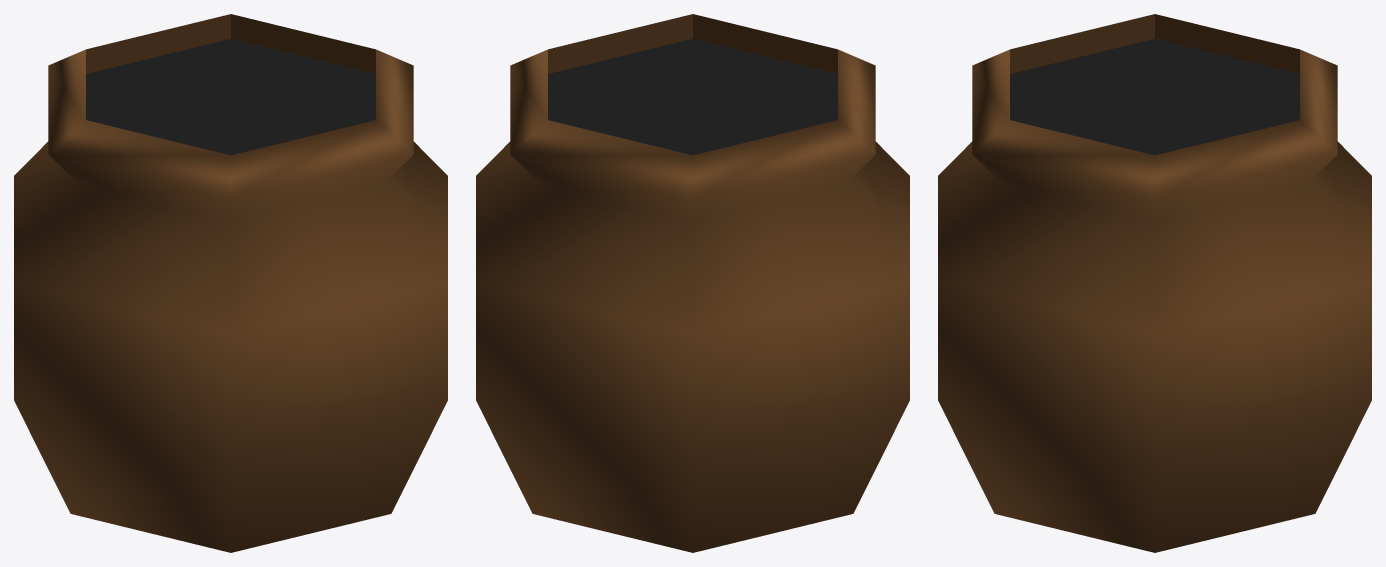
The model's file is Jar_2.fbx.
The picture shows the model from 3 angles, left to right: view 1: azimuth 30°, elevation 25°; view 2: azimuth 150°, elevation 25°; view 3: azimuth 270°, elevation 25°; orthographic projection.
Visible parts, largest first — view 1: pot_1.002; view 2: pot_1.002; view 3: pot_1.002.
Part boxes in pixels (x1,y1,x2,y2): pot_1.002: [14, 14, 447, 552]; pot_1.002: [476, 14, 909, 552]; pot_1.002: [938, 14, 1371, 552].
Bounding box in the file's own units: 29.77 × 25.57 × 25.78.
